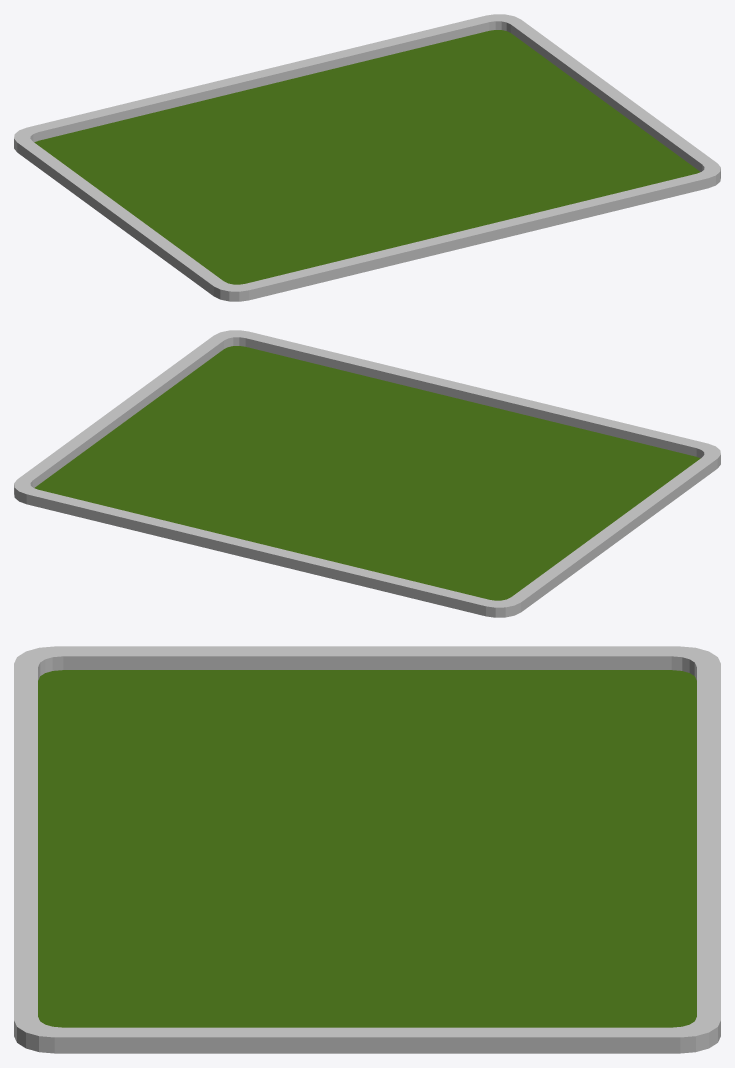
3 views of the same model, one above another, from view 1: azimuth 30°, elevation 25°; view 2: azimuth 150°, elevation 25°; view 3: azimuth 270°, elevation 25° (orthographic). The views are drawn at different scales.
Visible parts, largest first — view 1: Plane.044; view 2: Plane.044; view 3: Plane.044.
Boxes of the visible parts, bbox=[...] form: Plane.044: bbox=[14, 14, 720, 301]; Plane.044: bbox=[14, 330, 720, 617]; Plane.044: bbox=[14, 646, 720, 1053].
Bounding box in the file's own units: 2428 × 1856 × 46.45.
